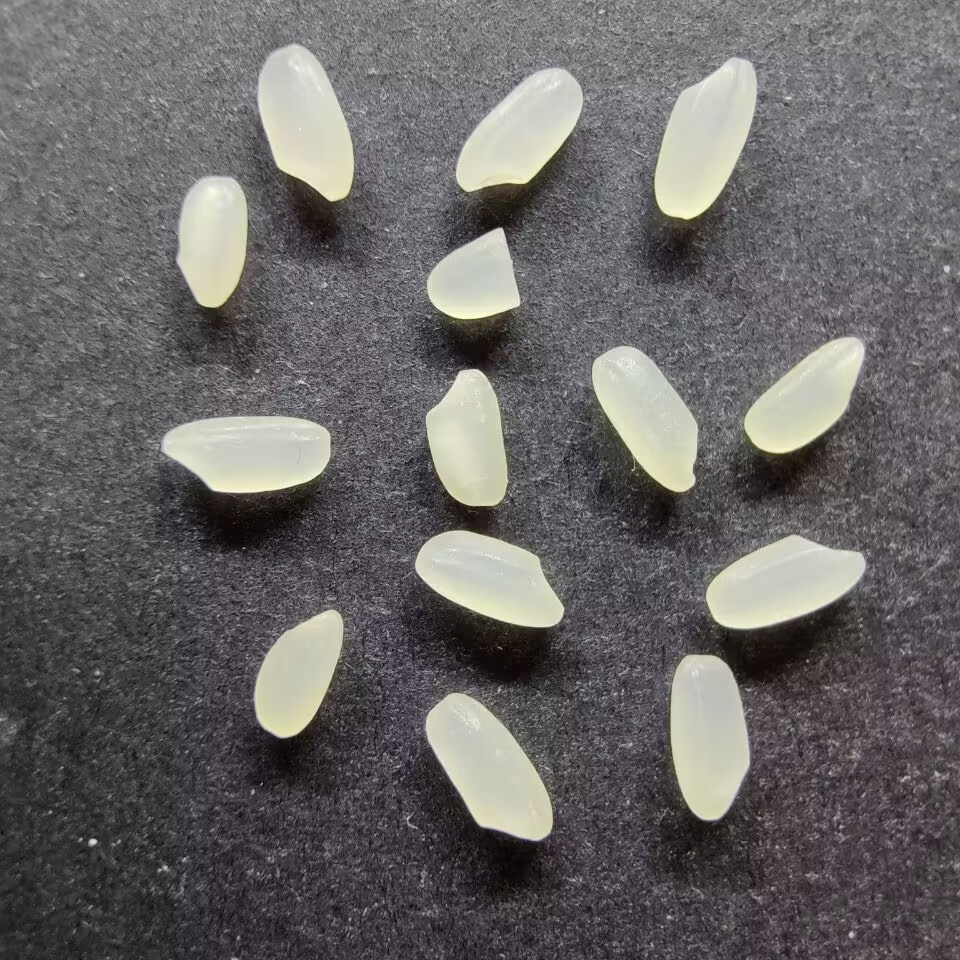broken: (424, 224, 523, 320)
rice: (422, 691, 556, 842), (651, 55, 759, 220), (453, 66, 585, 194), (589, 344, 700, 493), (256, 44, 357, 202), (704, 533, 867, 630), (412, 528, 566, 628), (741, 334, 865, 454), (667, 653, 752, 824), (160, 413, 334, 495), (251, 607, 347, 739), (423, 367, 510, 507), (174, 175, 248, 310)
